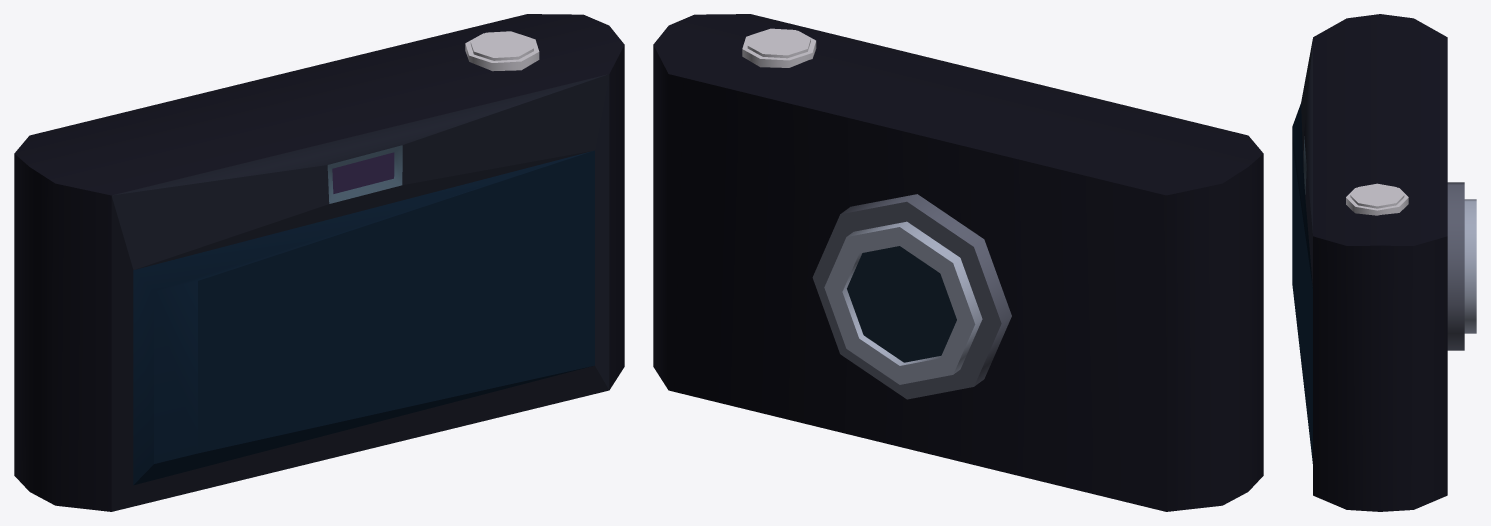
File: Camara.fbx
3 renders of one model, left to right at view 1: azimuth 30°, elevation 25°; view 2: azimuth 150°, elevation 25°; view 3: azimuth 270°, elevation 25°, orthographic. The views are drawn at different scales.
Visible parts, largest first — view 1: Cylinder; view 2: Cylinder; view 3: Cylinder.
Part boxes in pixels (box(x1,y1,x2,y2)): Cylinder: box(14, 14, 624, 511); Cylinder: box(653, 14, 1263, 511); Cylinder: box(1292, 14, 1476, 511).
Size of the model in its own units: 17.46 by 9.61 by 5.86.
